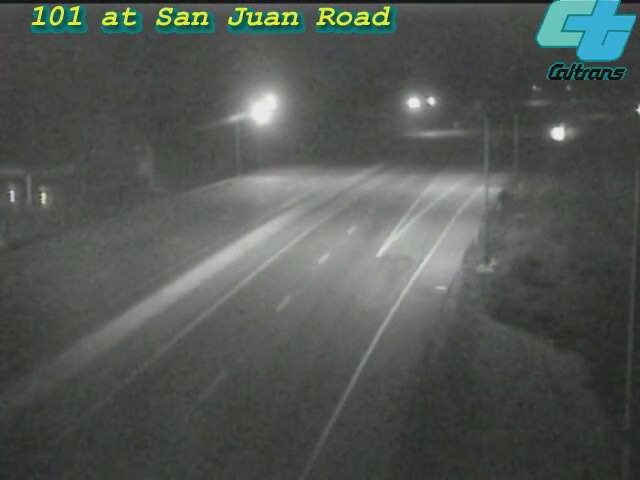vehicle: (534, 109, 584, 159)
